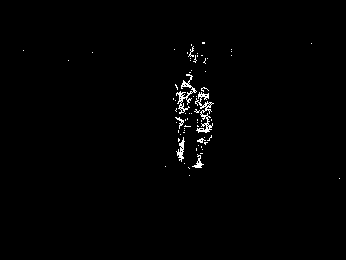person: (192, 86, 216, 172), (174, 72, 195, 164)
